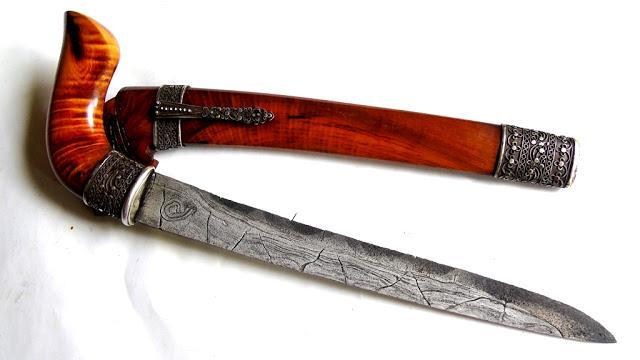espada: (47, 11, 614, 341)
